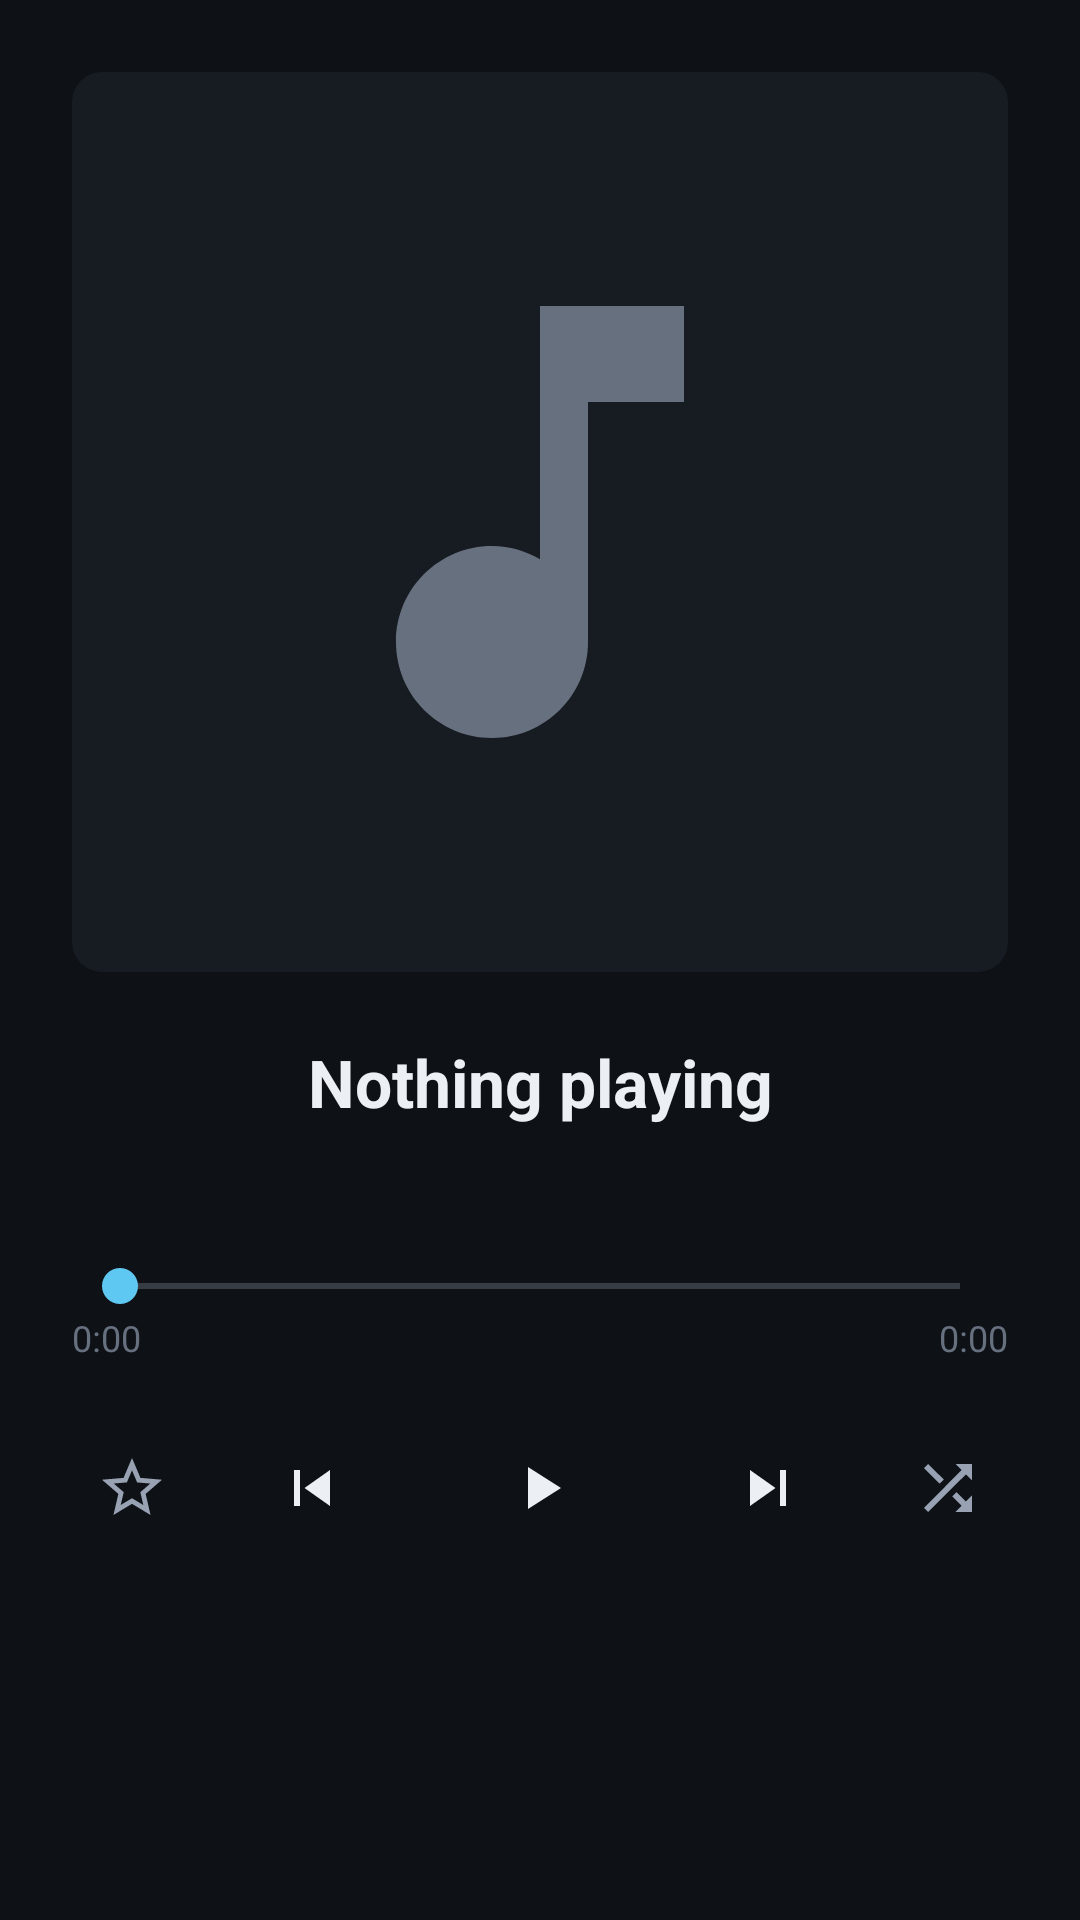

Locate icon controls on the screen. Image size 1080 × 1920, boxes as (x1, y1, x2, y2).
Next track: (750, 1470, 786, 1506)
Play or pause: (528, 1467, 561, 1509)
Previous track: (294, 1470, 330, 1506)
